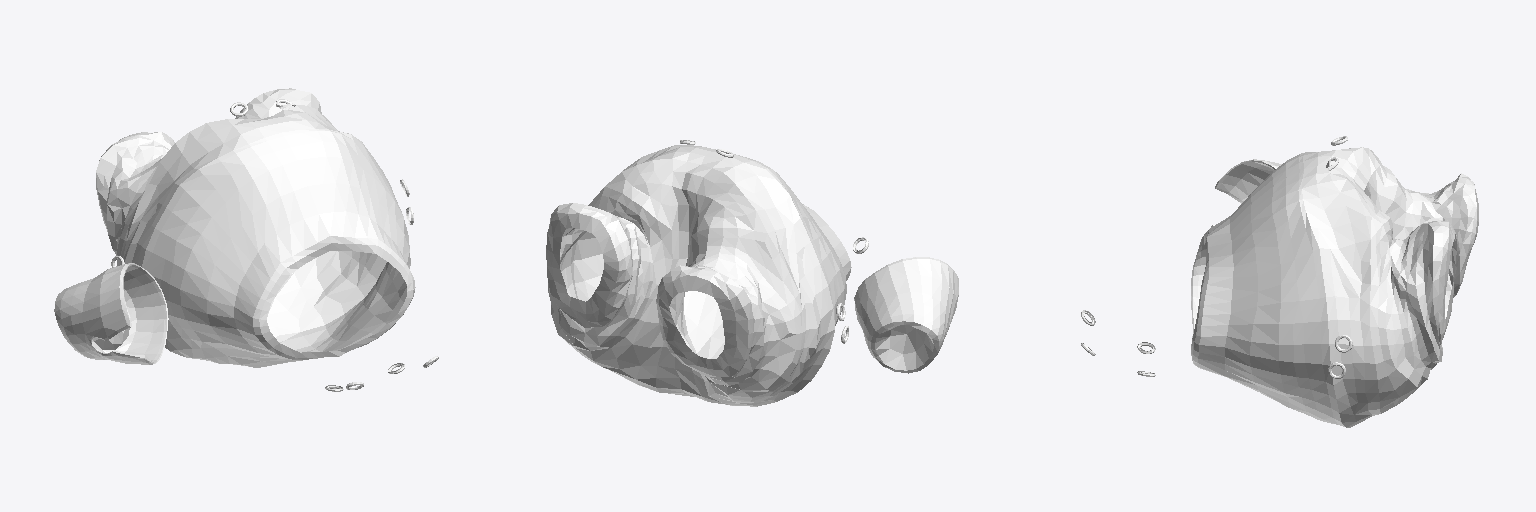
The model's file is vivi3.obj.
3 renders of one model, left to right at view 1: azimuth 30°, elevation 25°; view 2: azimuth 150°, elevation 25°; view 3: azimuth 270°, elevation 25°, orthographic.
Bounding box in the file's own units: 1.42 × 0.9179 × 1.32.